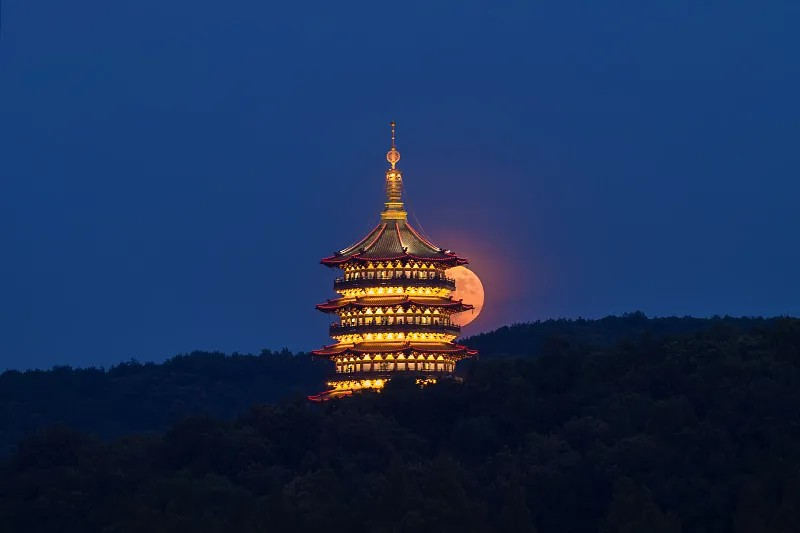Leifeng: (305, 121, 485, 413)
